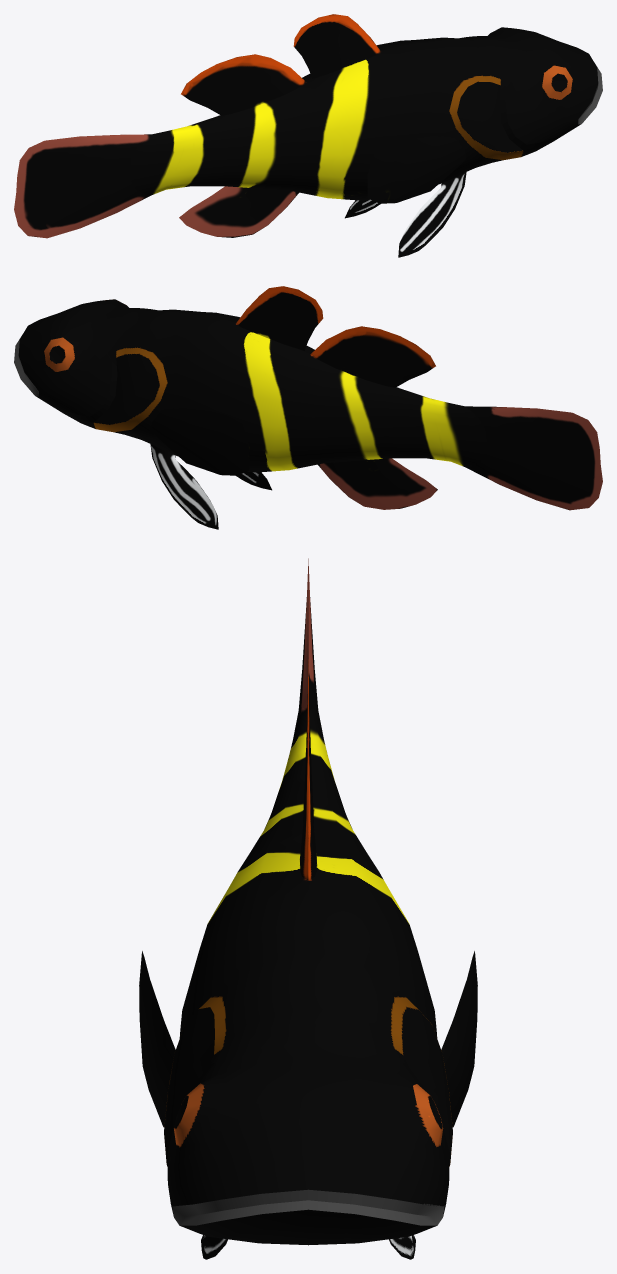
File: fish.glb
The picture shows the model from 3 angles, top to bottom: view 1: azimuth 30°, elevation 25°; view 2: azimuth 150°, elevation 25°; view 3: azimuth 270°, elevation 25°; orthographic projection. The views are drawn at different scales.
Visible parts, largest first — view 1: Fish1; view 2: Fish1; view 3: Fish1.
Part boxes in pixels (left/top/right/bottom): Fish1: left=14, top=14, right=602, bottom=257; Fish1: left=14, top=286, right=602, bottom=529; Fish1: left=139, top=558, right=477, bottom=1259.
Size of the model in its own units: 4.38 by 1.69 by 1.11.
Materials: 1 (1 with a texture image).
